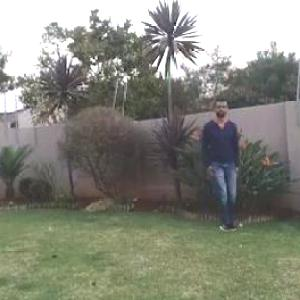follow: (202, 95, 242, 230)
